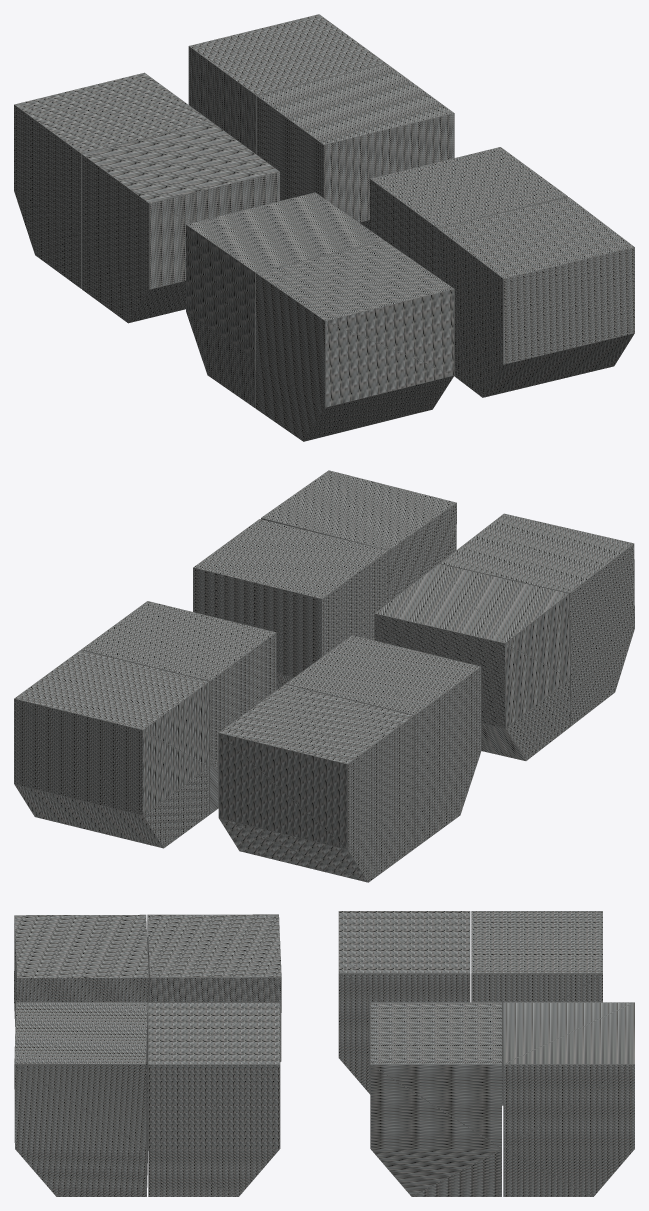
The model's file is CONTAINERS_4_GROUP.gltf.
3 views of the same model, one above another, from view 1: azimuth 30°, elevation 25°; view 2: azimuth 150°, elevation 25°; view 3: azimuth 270°, elevation 25° (orthographic). The views are drawn at different scales.
Visible parts, largest first — view 1: node1; view 2: node1; view 3: node1.
Part boxes in pixels (x1=…): node1: x1=14, y1=14, x2=634, y2=441; node1: x1=14, y1=470, x2=634, y2=882; node1: x1=14, y1=911, x2=634, y2=1196.
Bounding box in the file's own units: 3.89 × 1.58 × 6.65.
